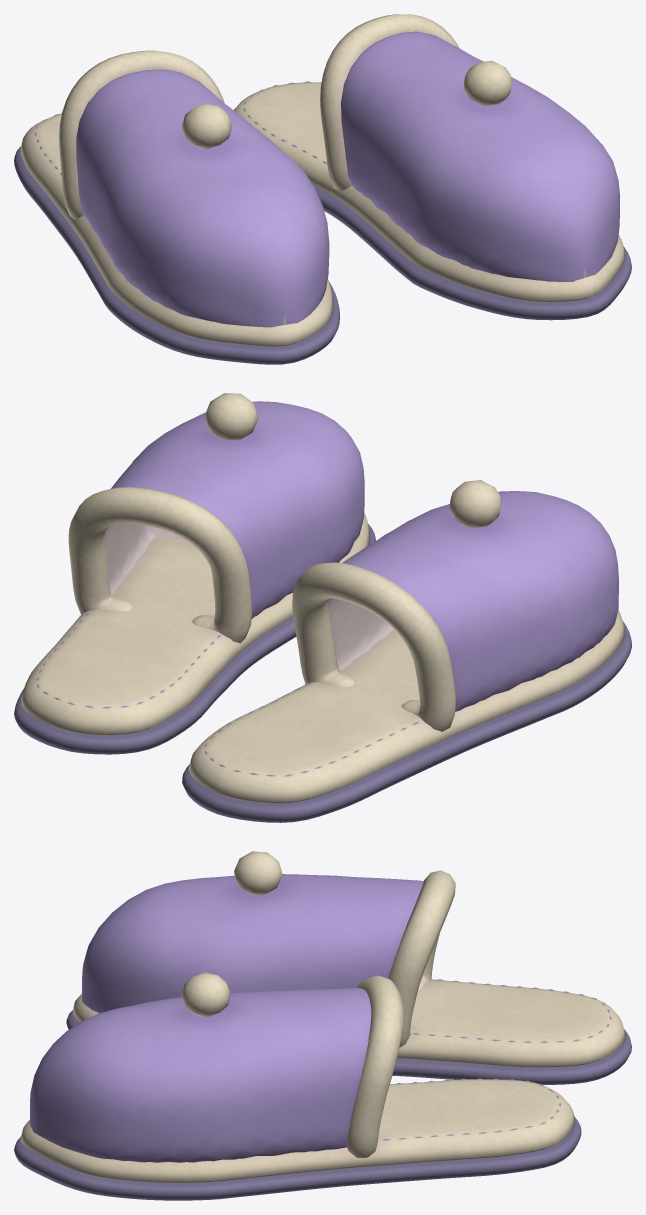
The model's file is slippers.glb.
3 renders of one model, top to bottom at view 1: azimuth 30°, elevation 25°; view 2: azimuth 150°, elevation 25°; view 3: azimuth 270°, elevation 25°, orthographic. The views are drawn at different scales.
Parts seen in each view (by area): view 1: slippers_body; view 2: slippers_body; view 3: slippers_body.
Part boxes in pixels (x1,y1,x2,y2): slippers_body: (14, 14, 631, 364); slippers_body: (14, 393, 631, 822); slippers_body: (14, 851, 631, 1200).
Size of the model in its own units: 0.2582 by 0.1008 by 0.3118.
1 material, 1 textured.
